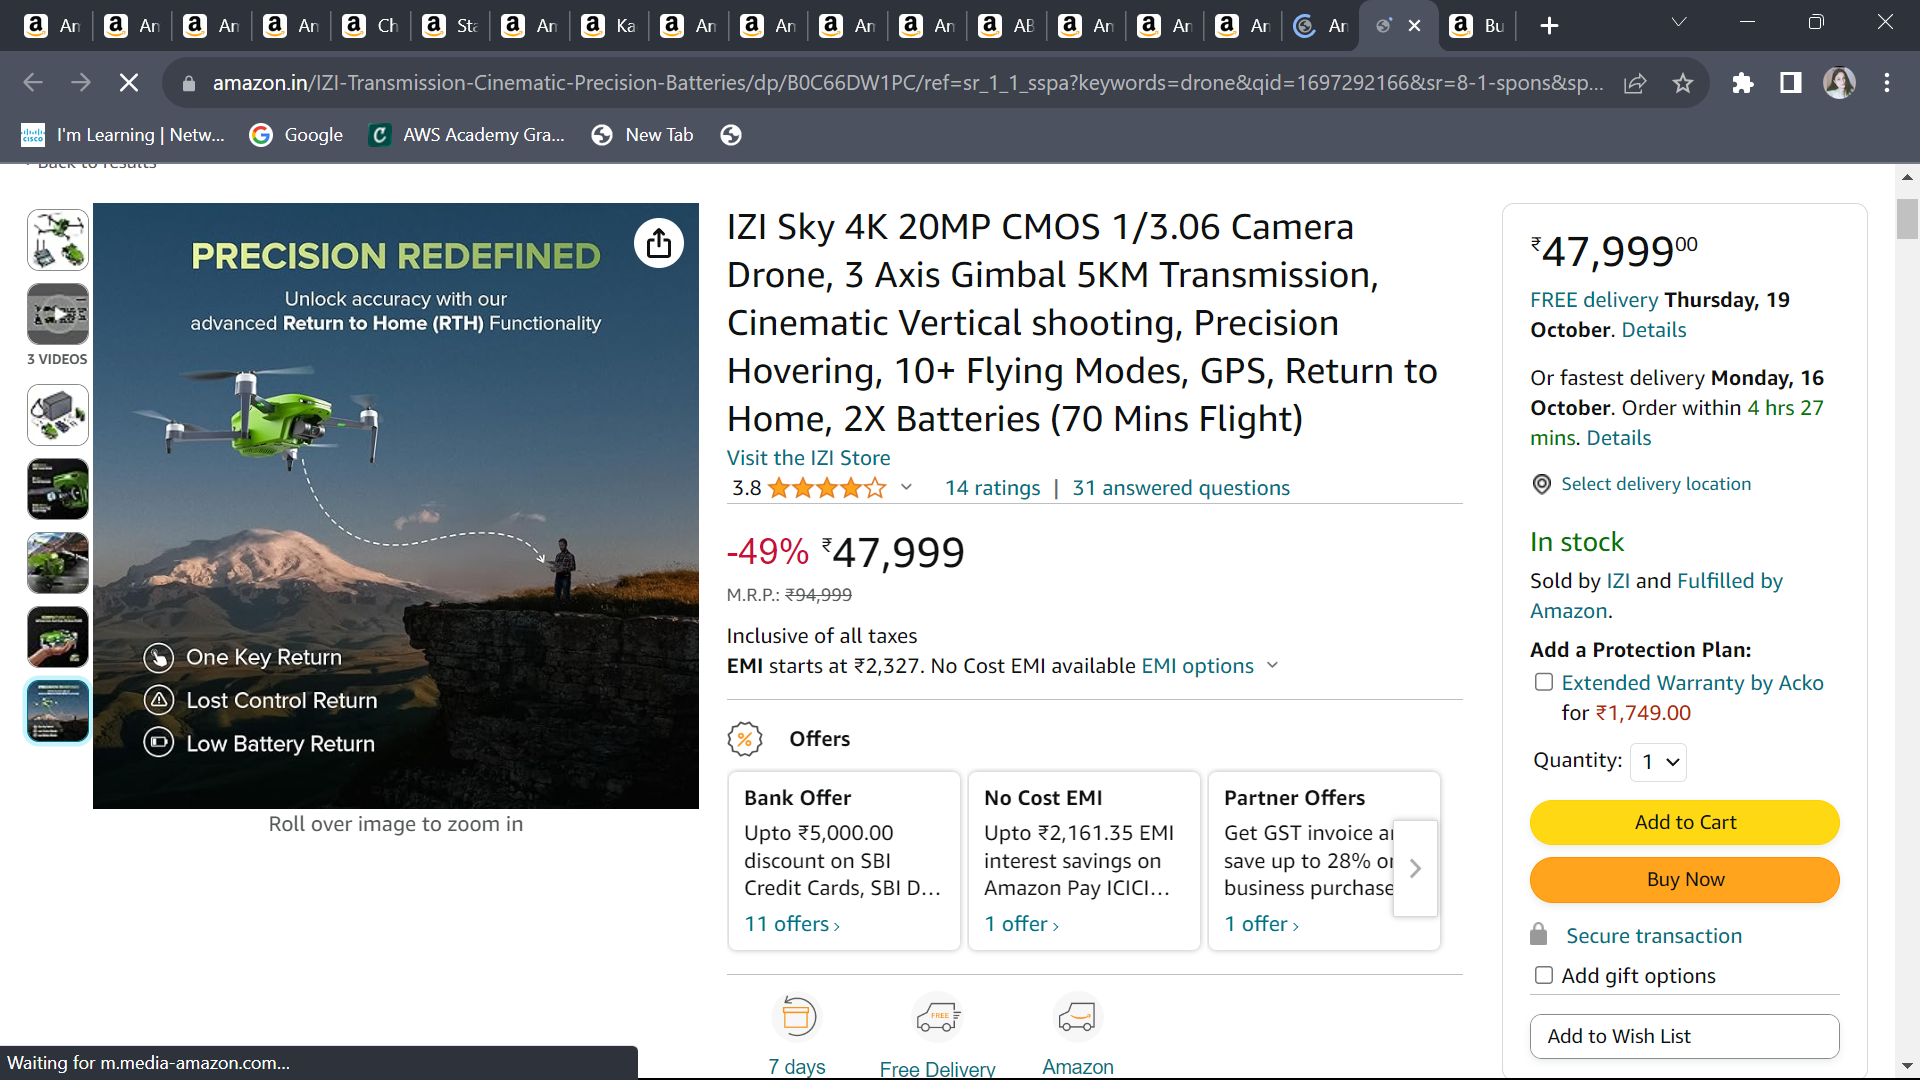Image: (80, 185, 713, 812)
Paragraph: (711, 696, 1472, 980), (708, 191, 1451, 448), (704, 442, 1443, 501), (1505, 630, 1873, 741), (704, 621, 1308, 687), (1505, 355, 1878, 448), (1511, 806, 1861, 905), (1505, 274, 1828, 352), (218, 803, 595, 866), (1499, 567, 1840, 630), (716, 501, 980, 576), (1523, 210, 1724, 281), (1509, 463, 1776, 505), (1511, 746, 1741, 789), (711, 579, 907, 615), (1511, 526, 1660, 567)
